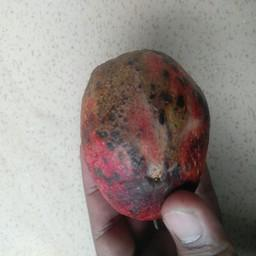Bad_pomegranate: (76, 47, 211, 234)
